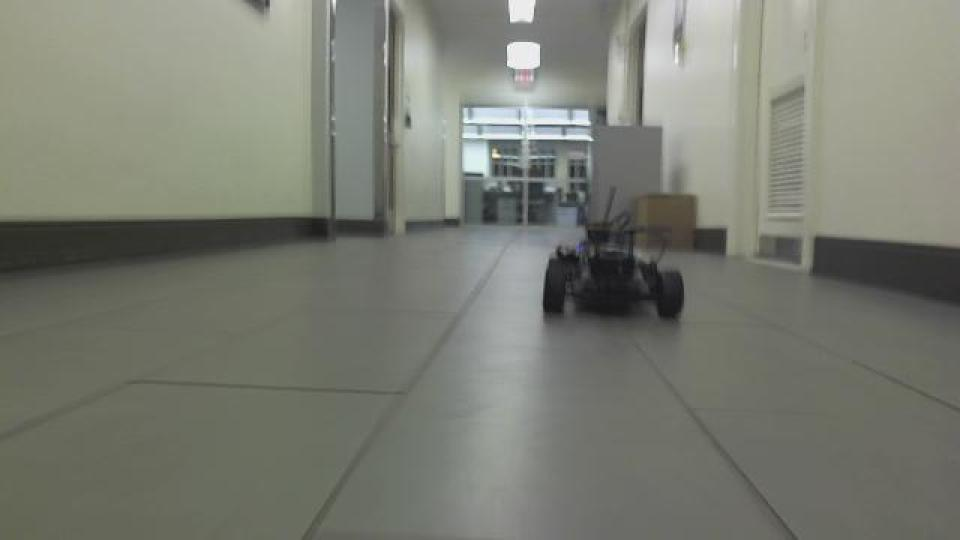car: (539, 184, 687, 322)
